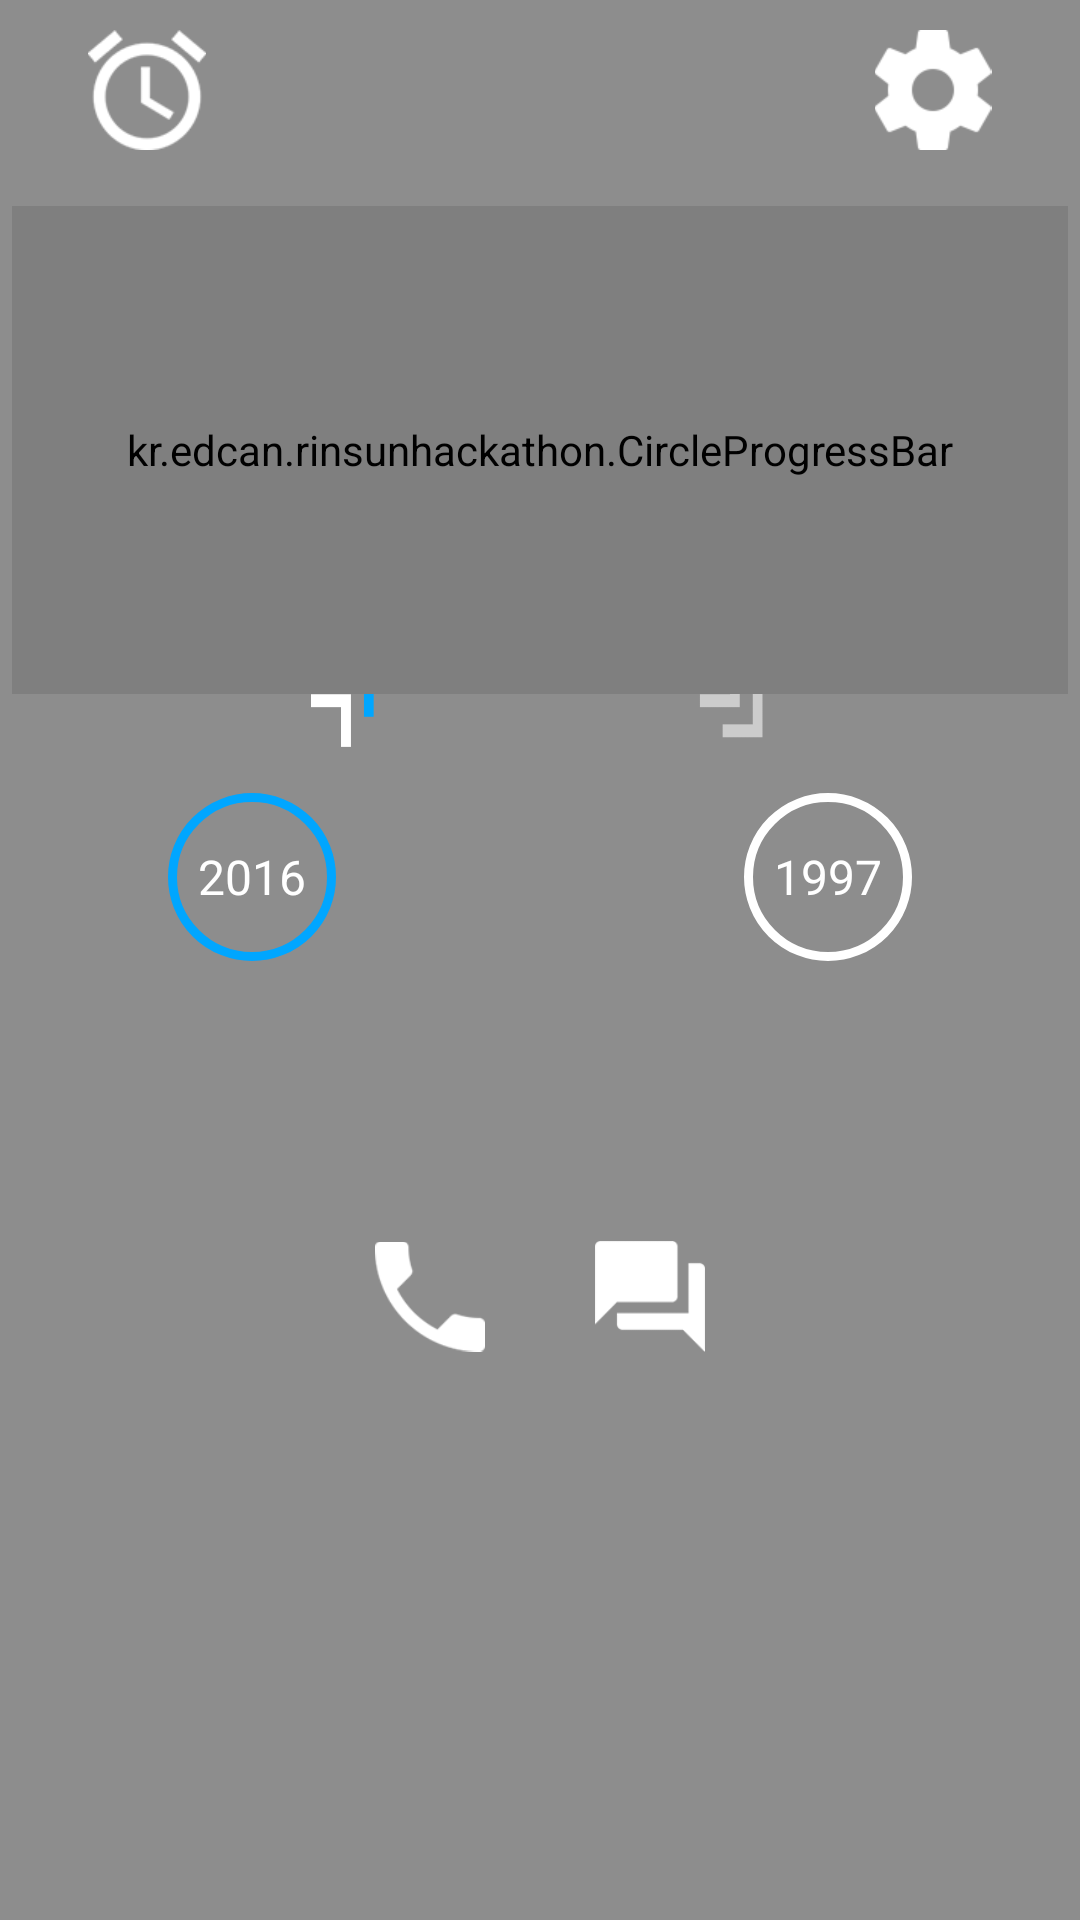

Named icons in this screenshot (1080px x 1920px) and their bounding boxes, region(x1, y1, x2, y2):
alarm: region(88, 30, 206, 150)
messege: region(595, 1241, 705, 1352)
phone: region(375, 1242, 485, 1352)
settings: region(875, 30, 992, 150)
